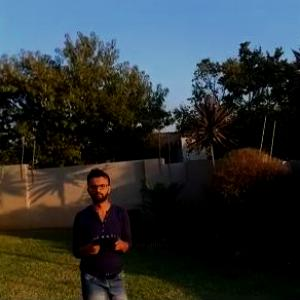follow: (71, 164, 138, 299)
